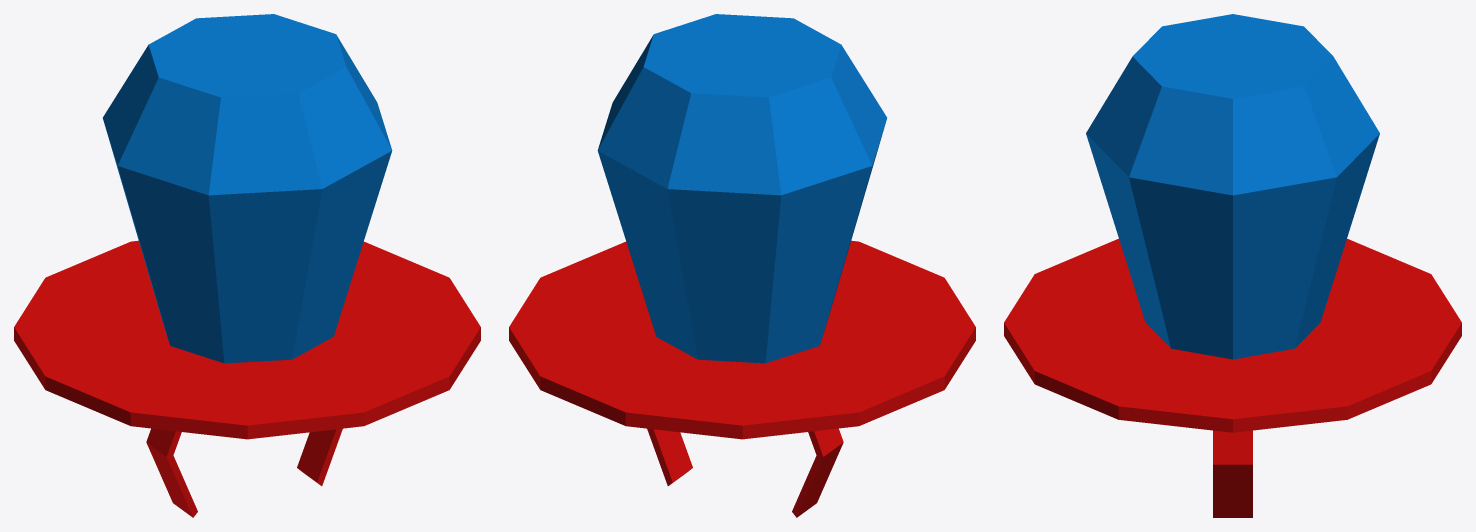
The model's file is ring pop.fbx.
3 views of the same model, side by side, from view 1: azimuth 30°, elevation 25°; view 2: azimuth 150°, elevation 25°; view 3: azimuth 270°, elevation 25° (orthographic).
Parts seen in each view (by area): view 1: node_id6 (×2); view 2: node_id6 (×2); view 3: node_id6 (×2).
Boxes of the visible parts, <box> form: node_id6 (×2): <box>14,14,480,517</box>; node_id6 (×2): <box>509,14,975,517</box>; node_id6 (×2): <box>1004,14,1461,517</box>.
Size of the model in its own units: 0.4934 by 0.512 by 0.4934.
